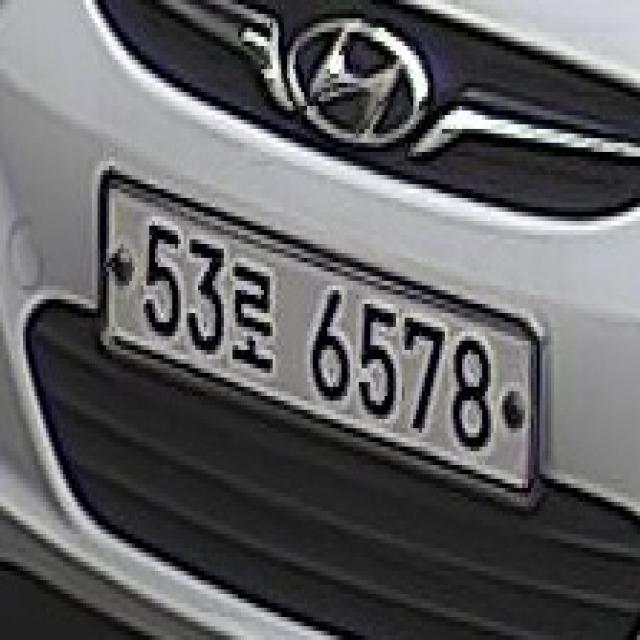3: (178, 221, 224, 368)
6: (298, 272, 353, 424), (350, 272, 399, 438), (140, 203, 183, 350)
7: (399, 295, 445, 442)
8: (451, 327, 496, 474)
license_plate: (100, 166, 546, 538)
lo: (224, 248, 281, 378)
